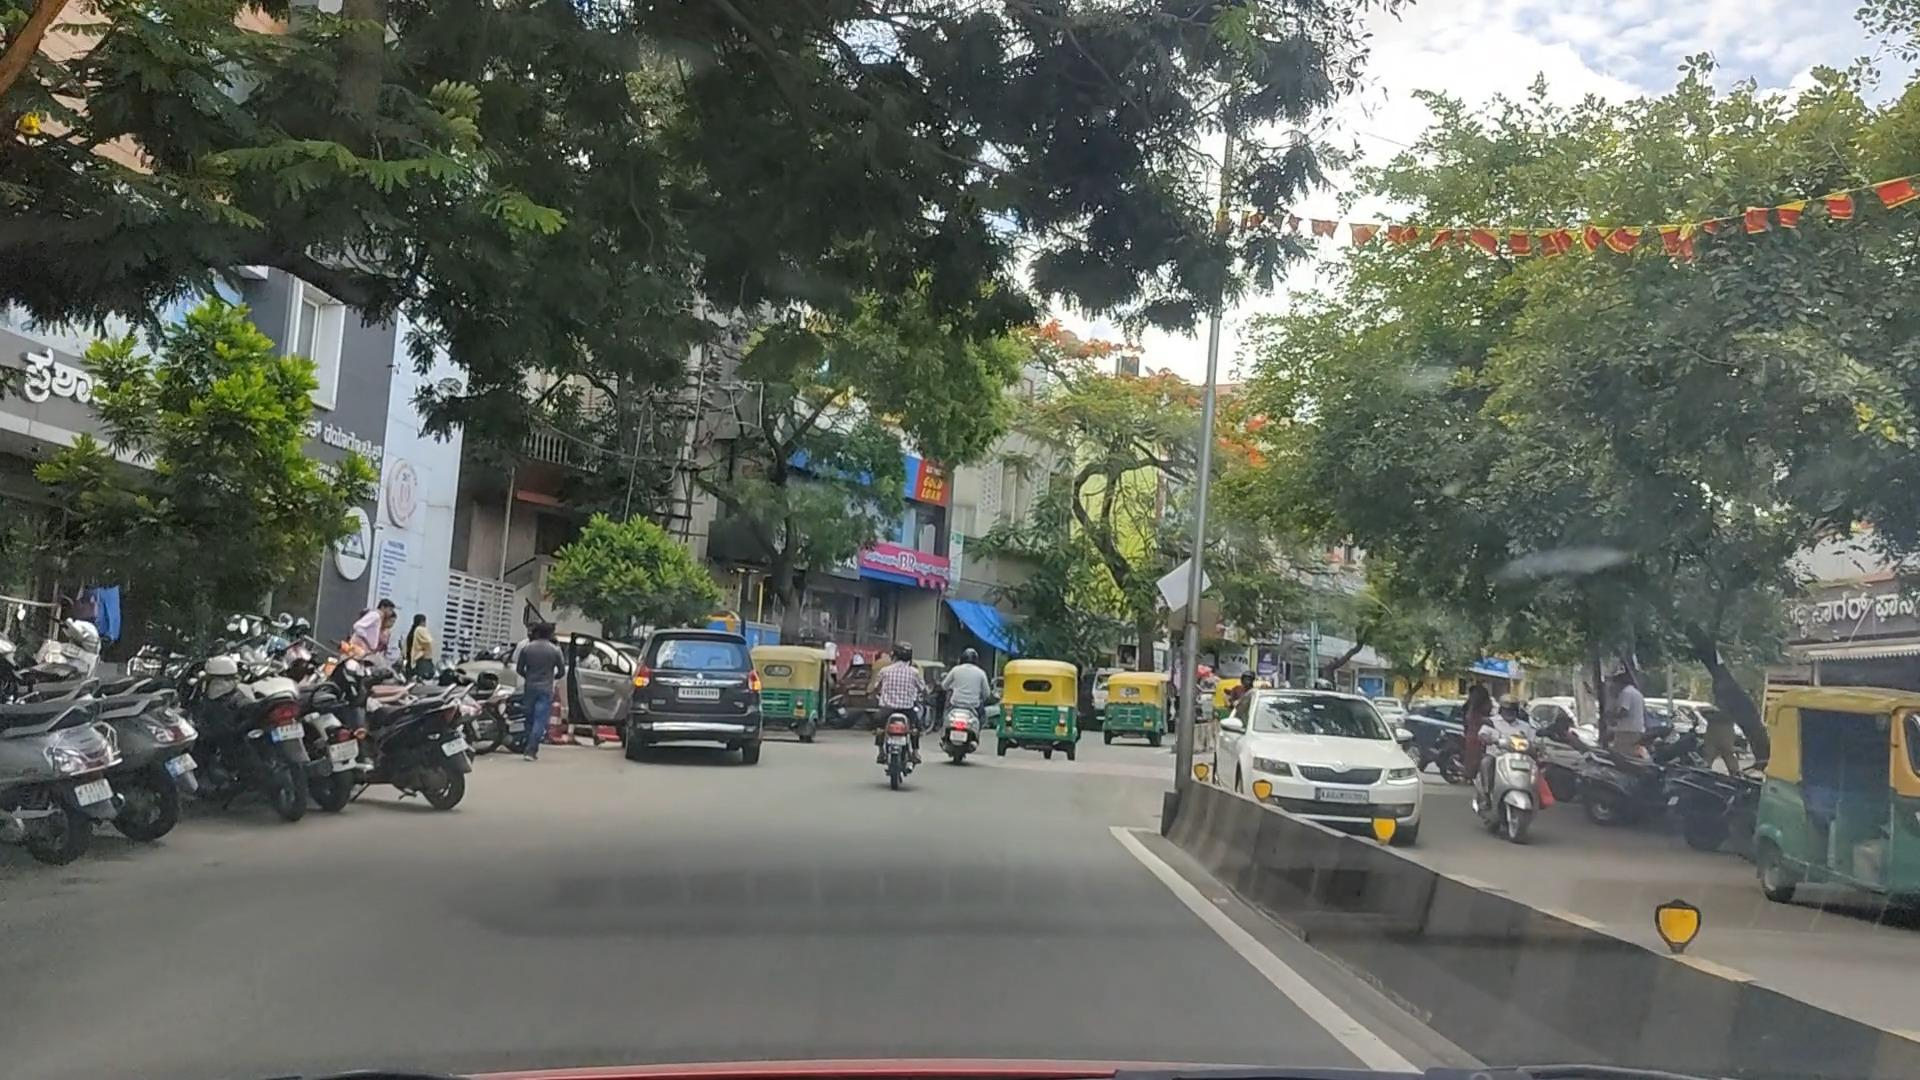LMV: (621, 625, 760, 758), (861, 628, 935, 785)
